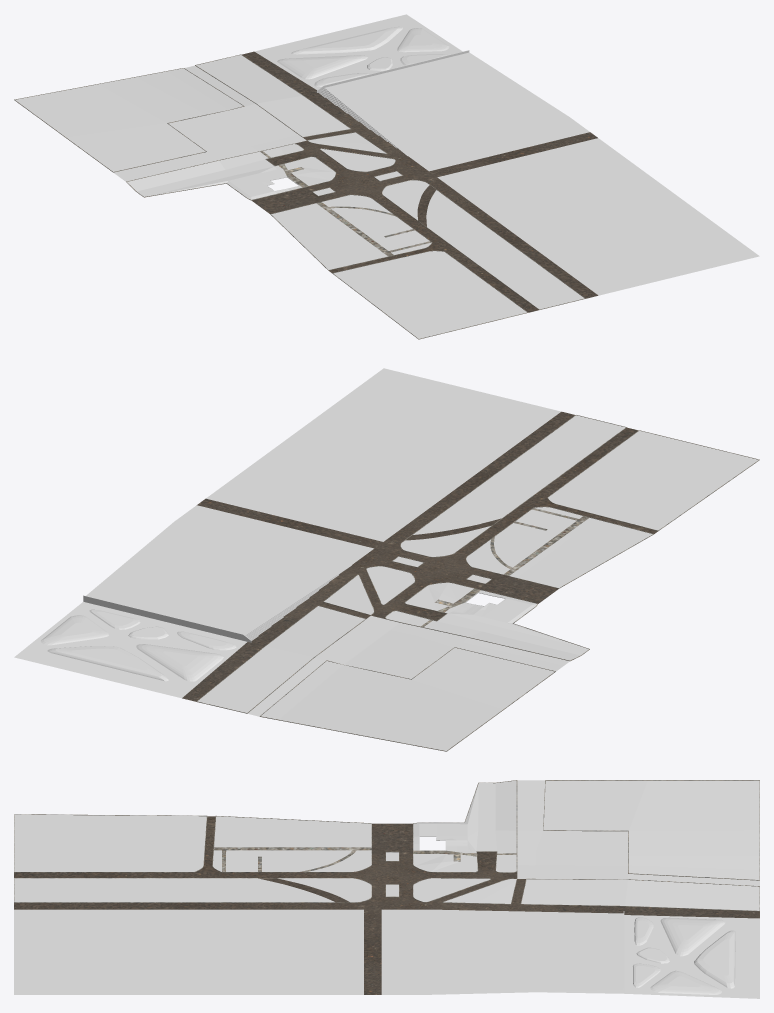
The model's file is Zeme.fbx.
The picture shows the model from 3 angles, top to bottom: view 1: azimuth 30°, elevation 25°; view 2: azimuth 150°, elevation 25°; view 3: azimuth 270°, elevation 25°; orthographic projection. The views are drawn at different scales.
Parts seen in each view (by area): view 1: Zeme, Travnik_Park; view 2: Zeme, Travnik_Park; view 3: Zeme, Travnik_Park.
Boxes of the visible parts, left/top/right/bottom form: Zeme: left=14, top=14, right=759, bottom=339; Travnik_Park: left=277, top=26, right=450, bottom=86; Zeme: left=14, top=368, right=759, bottom=751; Travnik_Park: left=41, top=609, right=236, bottom=681; Zeme: left=14, top=780, right=759, bottom=998; Travnik_Park: left=633, top=917, right=735, bottom=994.
Bounding box in the file's own units: 21601 × 544 × 32100.
